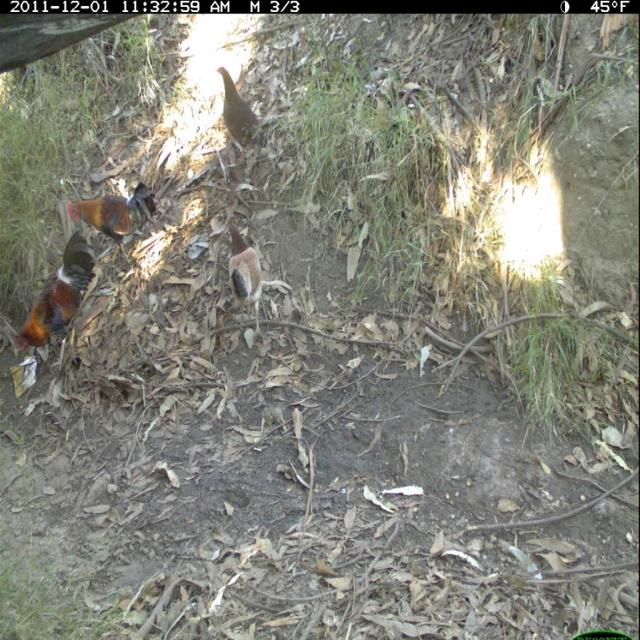bird: (14, 234, 105, 370), (67, 184, 161, 263), (213, 64, 272, 175), (222, 212, 273, 332)
